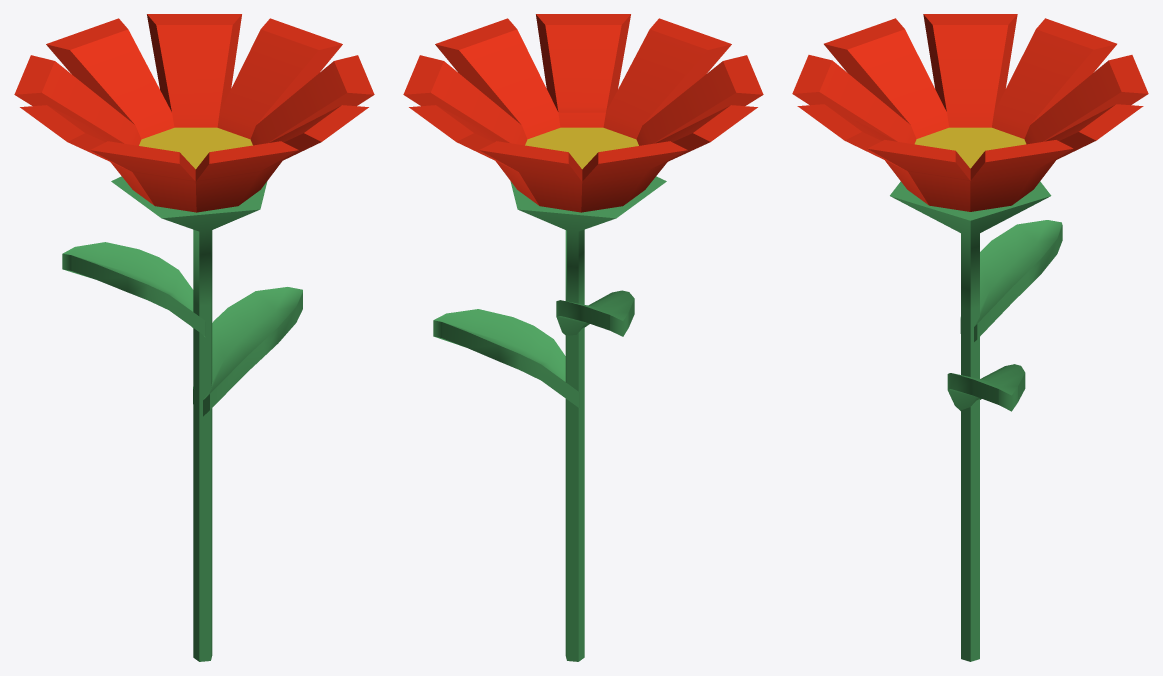
The model's file is Flower4.fbx.
3 views of the same model, side by side, from view 1: azimuth 30°, elevation 25°; view 2: azimuth 150°, elevation 25°; view 3: azimuth 270°, elevation 25° (orthographic).
Visible parts, largest first — view 1: Flower_4; view 2: Flower_4; view 3: Flower_4.
Part boxes in pixels (left/top/right/bottom): Flower_4: left=14, top=14, right=374, bottom=661; Flower_4: left=403, top=14, right=763, bottom=661; Flower_4: left=792, top=14, right=1148, bottom=661.
Size of the model in its own units: 24.58 by 43.77 by 24.96.
